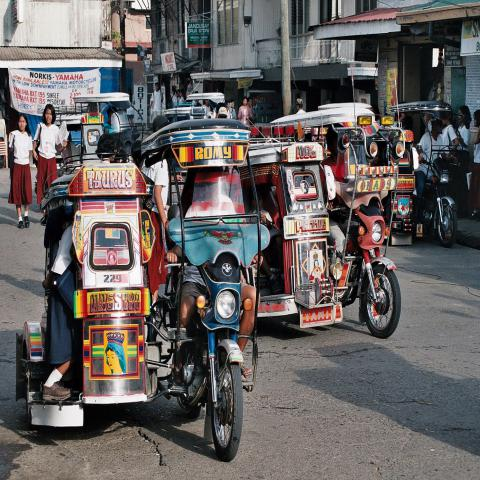motorcycle: (10, 132, 253, 458), (256, 110, 405, 346), (395, 111, 460, 236)
